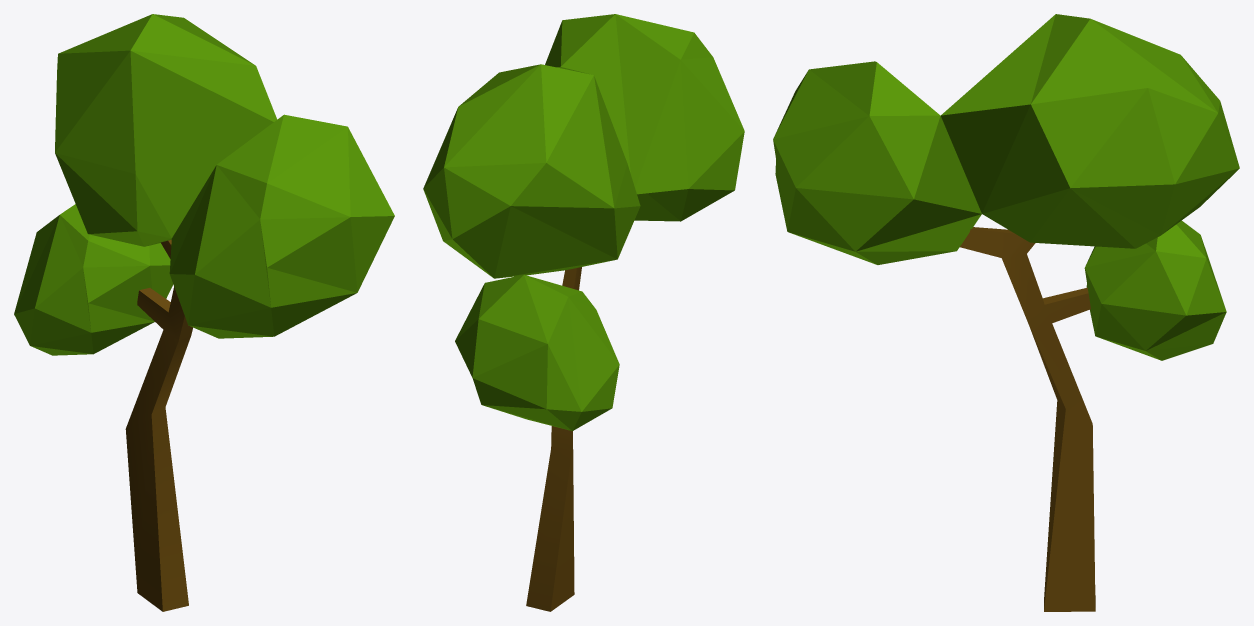
The model's file is Tree3.fbx.
The picture shows the model from 3 angles, left to right: view 1: azimuth 30°, elevation 25°; view 2: azimuth 150°, elevation 25°; view 3: azimuth 270°, elevation 25°; orthographic projection. The views are drawn at different scales.
Visible parts, largest first — view 1: leaves, tree; view 2: leaves, tree; view 3: leaves, tree.
Boxes of the visible parts, x1,y1,x2,y2 form: leaves: [14, 14, 394, 355]; tree: [125, 240, 192, 611]; leaves: [423, 14, 744, 430]; tree: [526, 267, 581, 611]; leaves: [773, 14, 1239, 360]; tree: [960, 227, 1095, 611].
Bounding box in the file's own units: 2.45 × 6.56 × 4.73.
